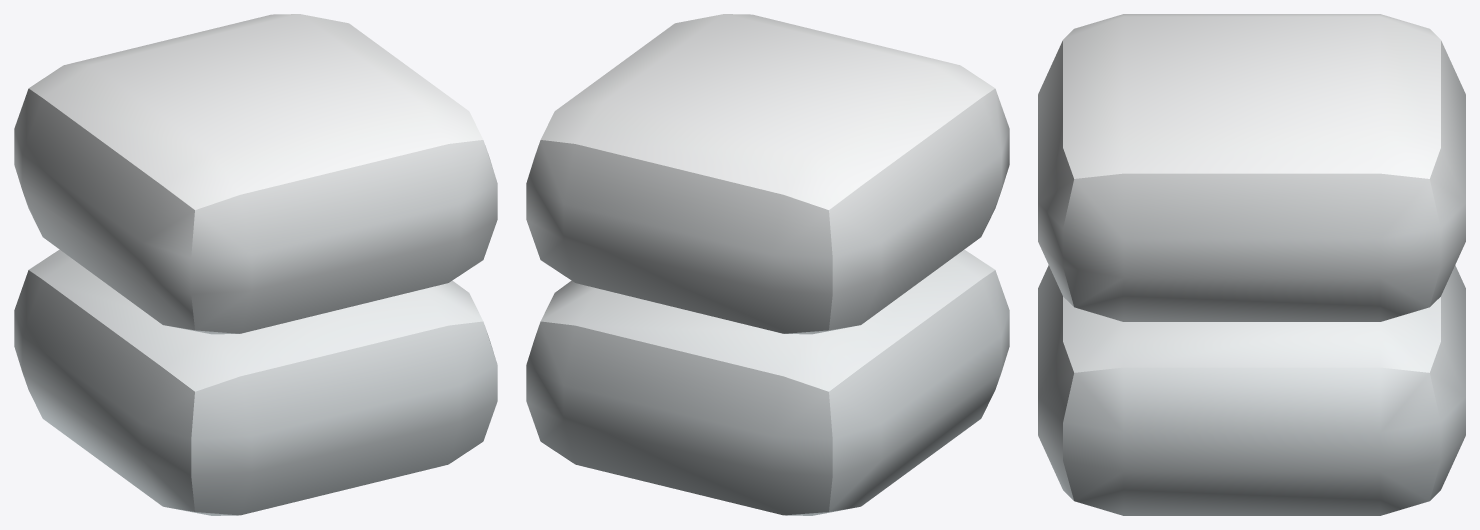
File: barrier_1x1x1.glb
The picture shows the model from 3 angles, left to right: view 1: azimuth 30°, elevation 25°; view 2: azimuth 150°, elevation 25°; view 3: azimuth 270°, elevation 25°; orthographic projection. The views are drawn at different scales.
Visible parts, largest first — view 1: barrier_1x1x1; view 2: barrier_1x1x1; view 3: barrier_1x1x1.
Boxes of the visible parts, x1=… form: barrier_1x1x1: x1=14, y1=14, x2=497, y2=515; barrier_1x1x1: x1=526, y1=14, x2=1009, y2=515; barrier_1x1x1: x1=1038, y1=14, x2=1465, y2=515.
Size of the model in its own units: 1 by 1 by 1.
Materials: 1 (1 with a texture image).
